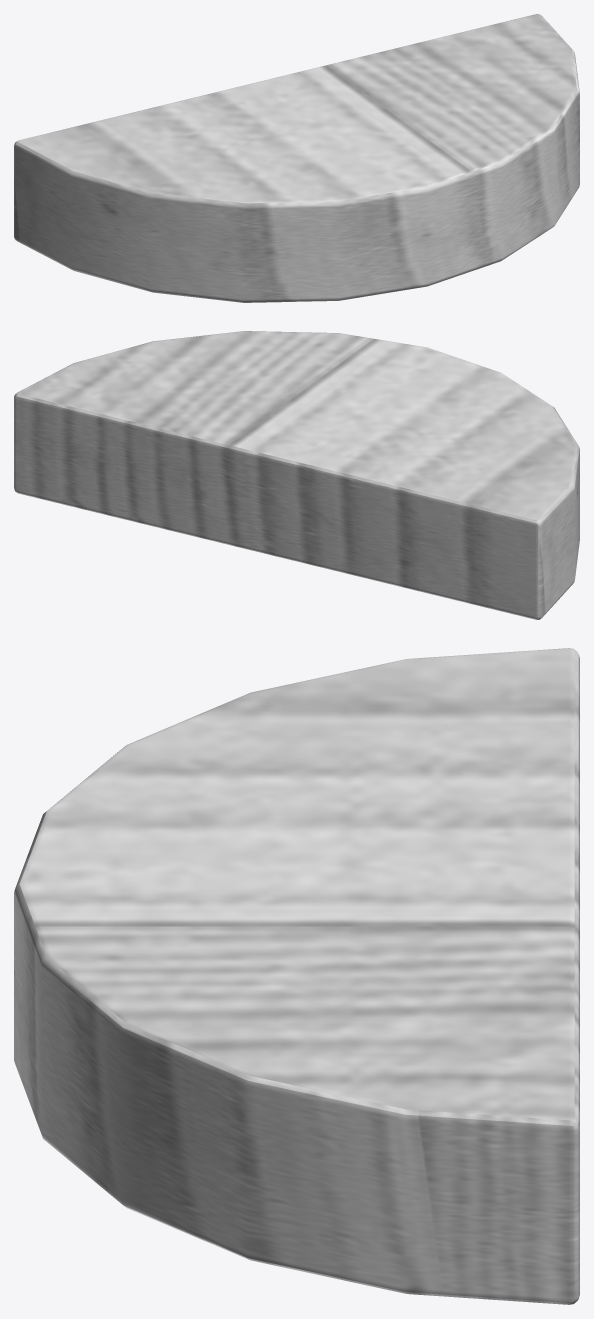
File: Balcony_CLG.fbx
3 views of the same model, one above another, from view 1: azimuth 30°, elevation 25°; view 2: azimuth 150°, elevation 25°; view 3: azimuth 270°, elevation 25° (orthographic). The views are drawn at different scales.
Visible parts, largest first — view 1: pCylinder1; view 2: pCylinder1; view 3: pCylinder1.
Boxes of the visible parts, x1,y1,x2,y2 form: pCylinder1: (14, 14, 579, 302); pCylinder1: (14, 331, 579, 619); pCylinder1: (14, 648, 579, 1304).
Size of the model in its own units: 51.47 by 9.42 by 25.81.
